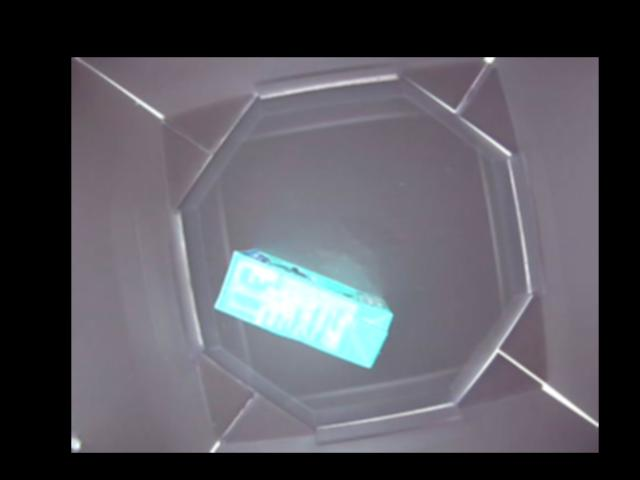Bottle: (216, 247, 395, 367)
